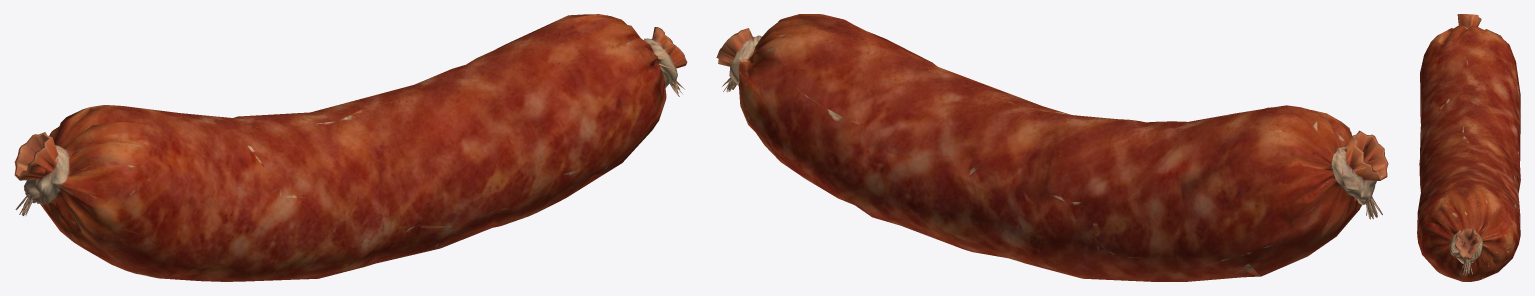
File: d_sausage.glb
The picture shows the model from 3 angles, left to right: view 1: azimuth 30°, elevation 25°; view 2: azimuth 150°, elevation 25°; view 3: azimuth 270°, elevation 25°; orthographic projection. The views are drawn at different scales.
Bounding box in the file's own units: 1.9 × 0.5744 × 0.4111.
Materials: 1 (1 with a texture image).
